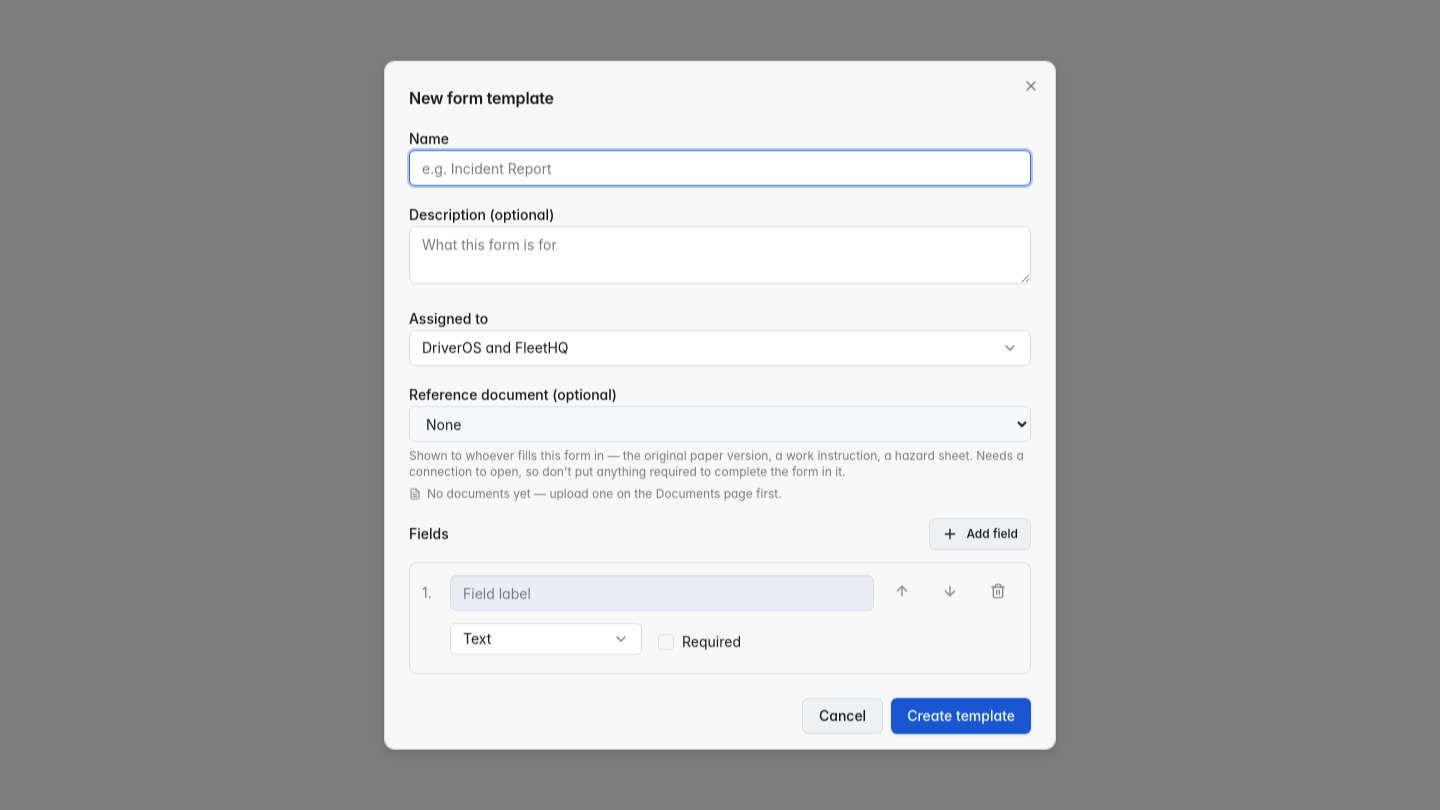
Test case: FormBuilderDialog — POD field types and delivery target › offers the DELIVERY target context
The width and height of the screenshot is (1440, 810).
Click the dropdown labelled "DriverOS and FleetHQ": (495, 347) [409,330,1031,366]
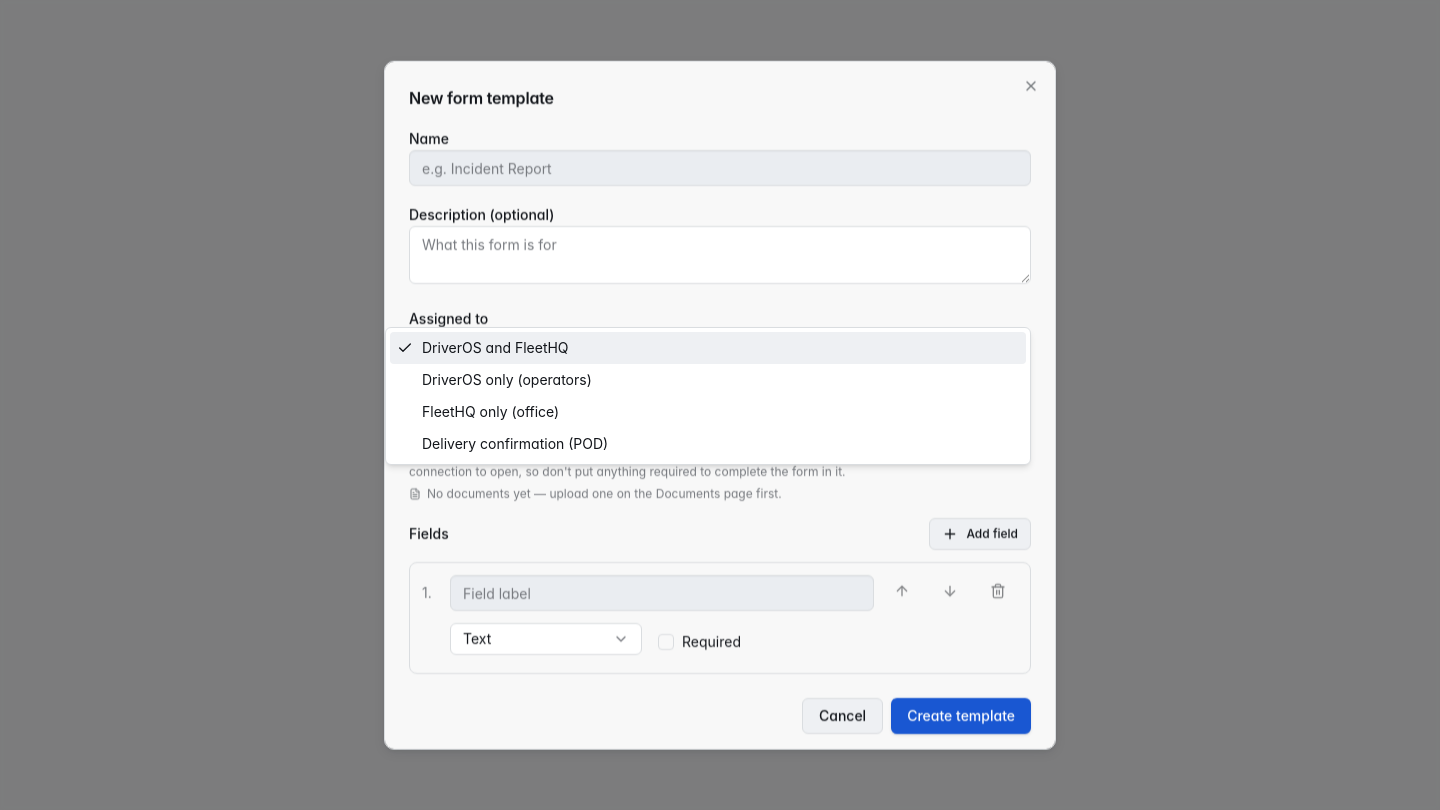
Expected: the option "Delivery confirmation (POD)" is shown, [422,435,608,452]
